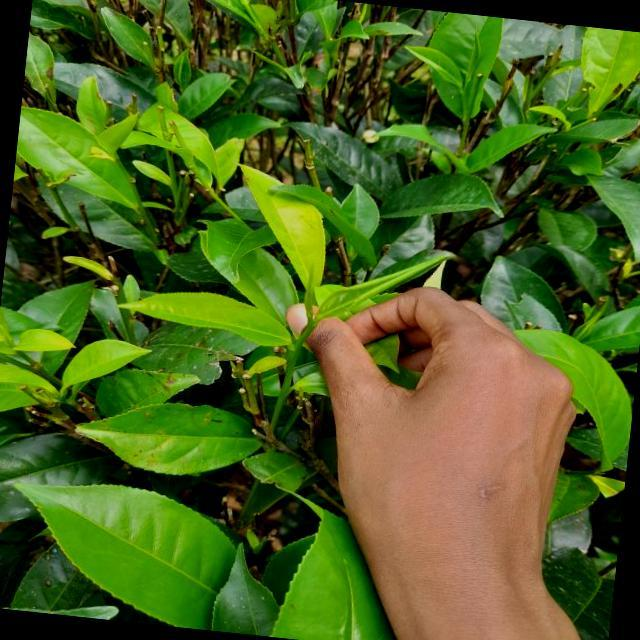Stem: (289, 346, 296, 359)
